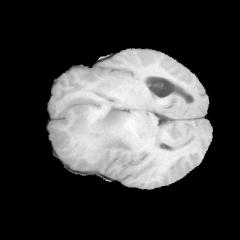glioma: (67, 104, 132, 161)
